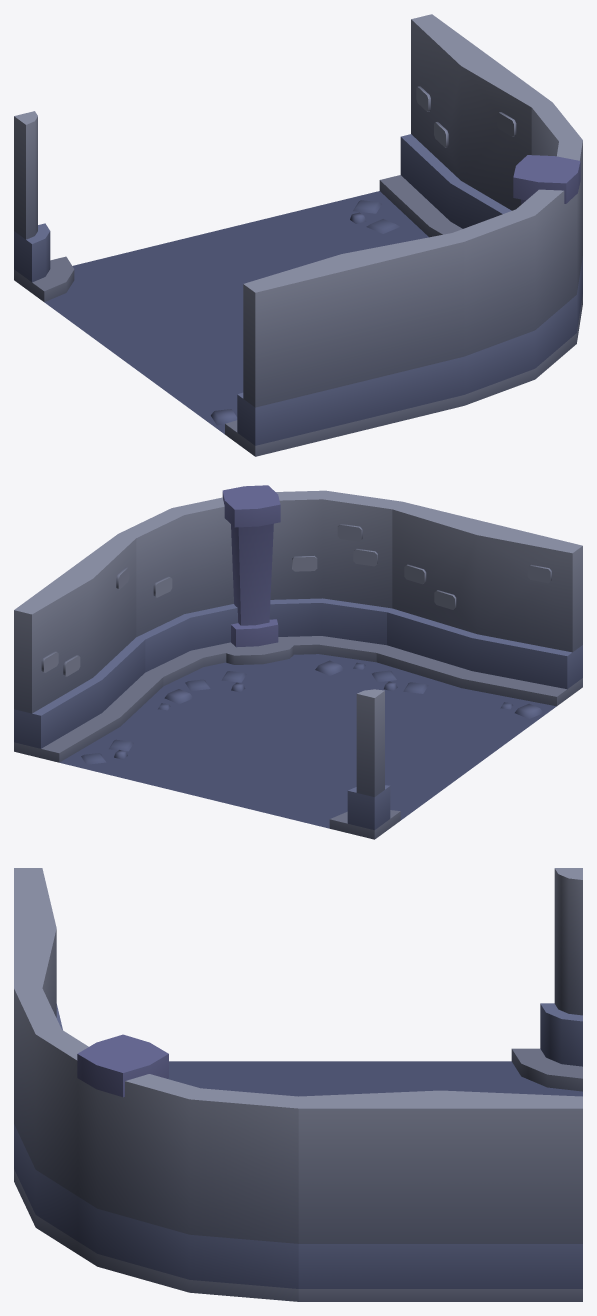
Rendered from corridor-wide-corner.glb.
The picture shows the model from 3 angles, top to bottom: view 1: azimuth 30°, elevation 25°; view 2: azimuth 150°, elevation 25°; view 3: azimuth 270°, elevation 25°; orthographic projection. The views are drawn at different scales.
Parts seen in each view (by area): view 1: corridor-wide-corner; view 2: corridor-wide-corner; view 3: corridor-wide-corner.
Part boxes in pixels (box(x1,y1,x2,y2)): corridor-wide-corner: box(14, 14, 582, 456); corridor-wide-corner: box(14, 485, 582, 839); corridor-wide-corner: box(14, 868, 582, 1301).
Size of the model in its own units: 8 by 3.13 by 8.
